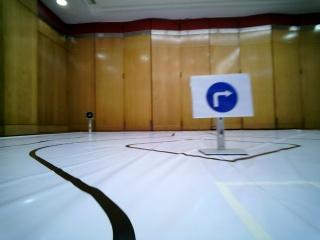right: (189, 77, 251, 115)
